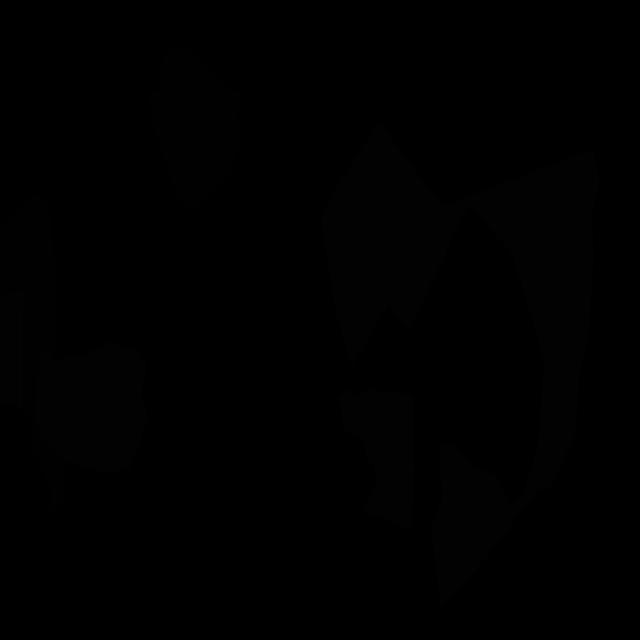cardboard: (320, 122, 600, 608), (34, 340, 148, 474), (338, 388, 414, 531), (0, 289, 24, 411)
rigid_plastic: (0, 192, 65, 521), (148, 47, 244, 212)
